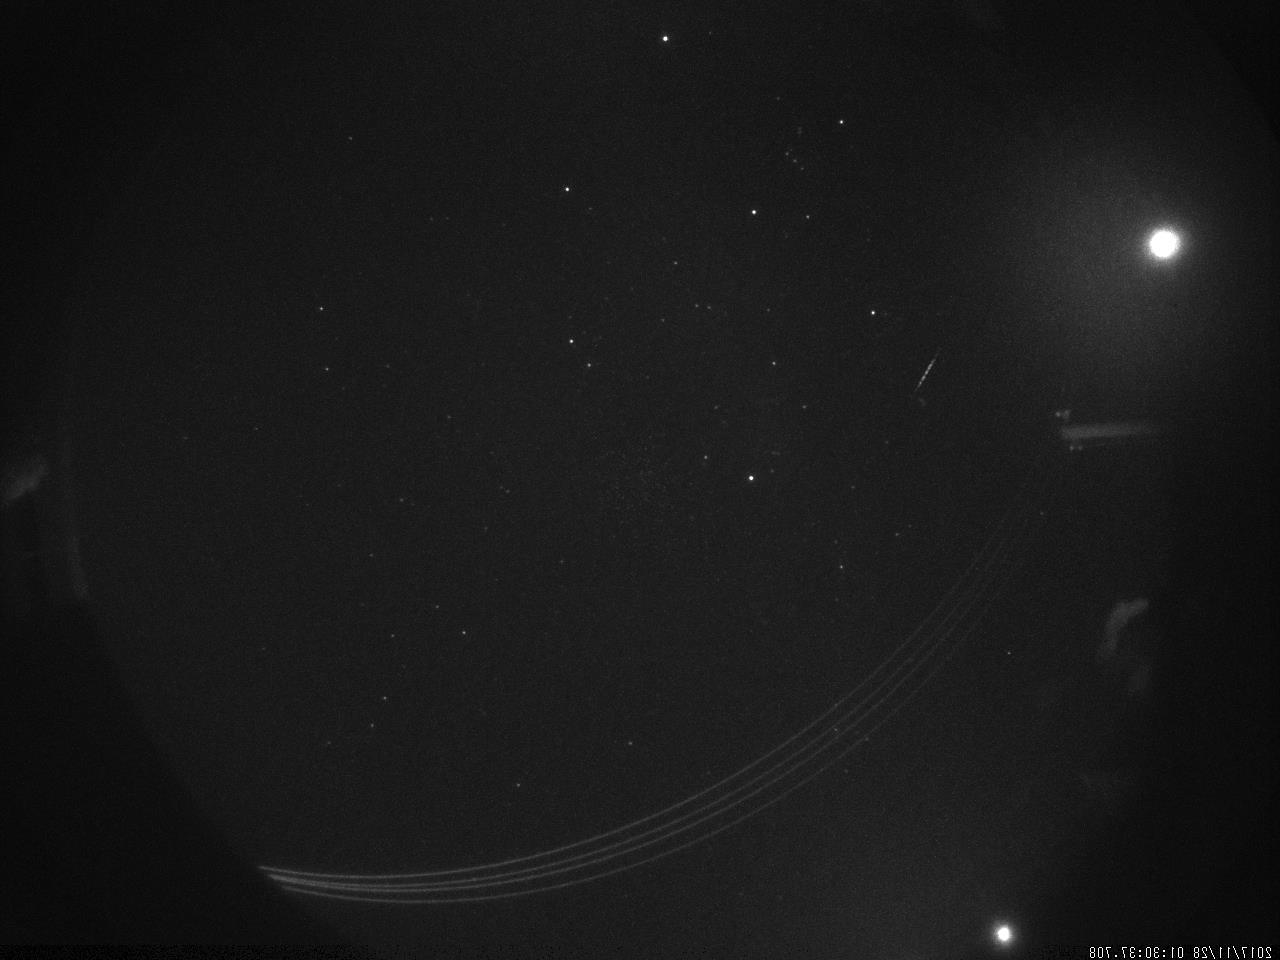meteor: (908, 346, 949, 398)
